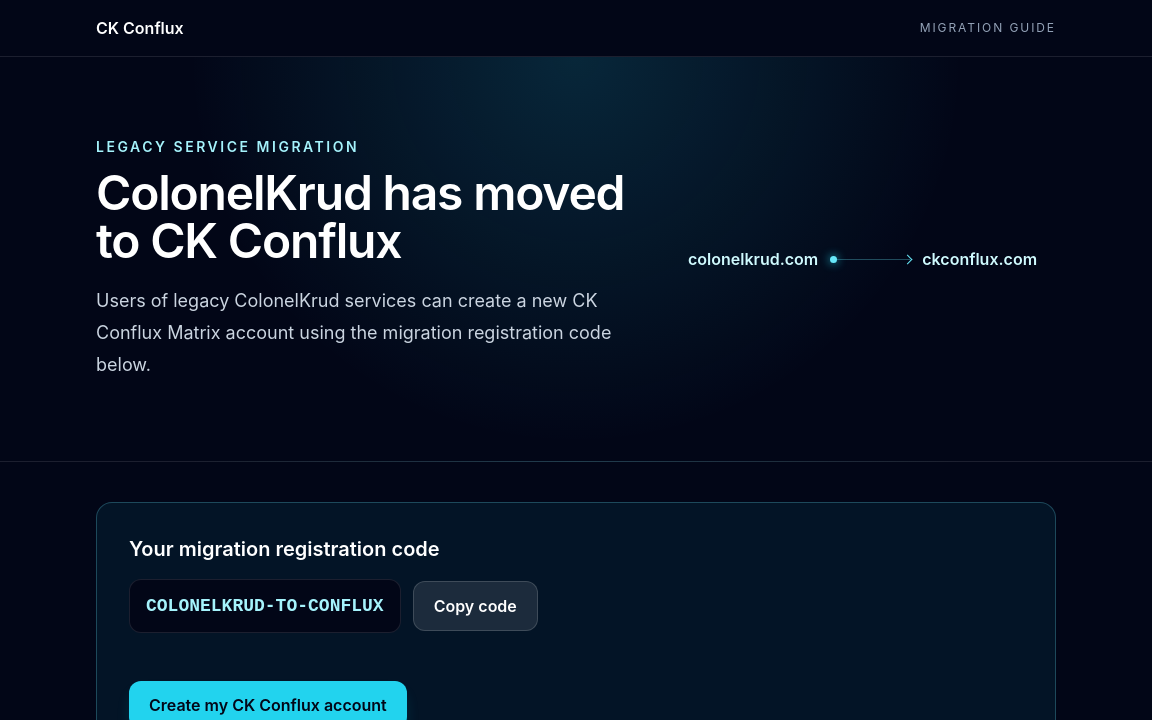
Test: legacy migration campaign › keeps the code readable when clipboard support is unavailable
Click the button with aria-label "Copy migration registration code".
click(475, 606)  # box [413, 581, 538, 631]
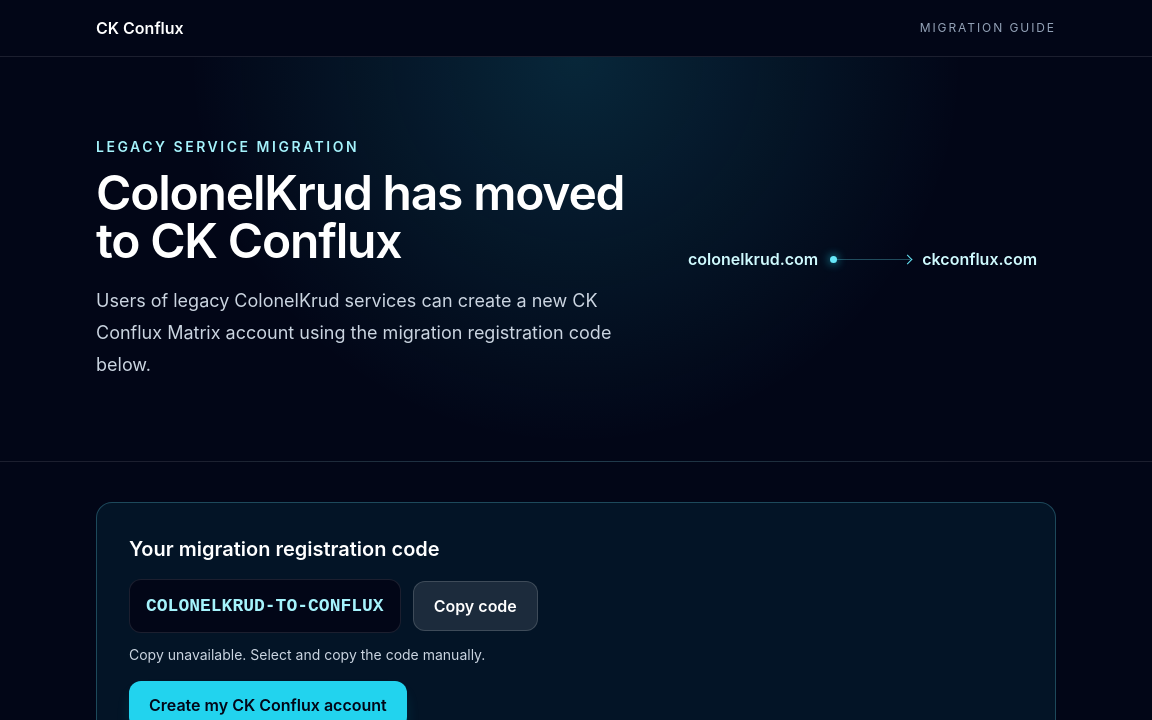
Expected: the text "COLONELKRUD-TO-CONFLUX" is shown, [129, 579, 401, 633]
Expected: the text "Copy unavailable. Select and copy the code manually." is shown, [129, 646, 485, 663]
